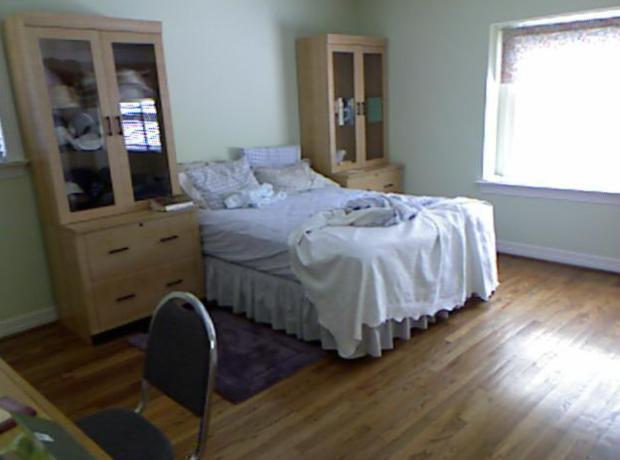Armario: (14, 11, 204, 346)
